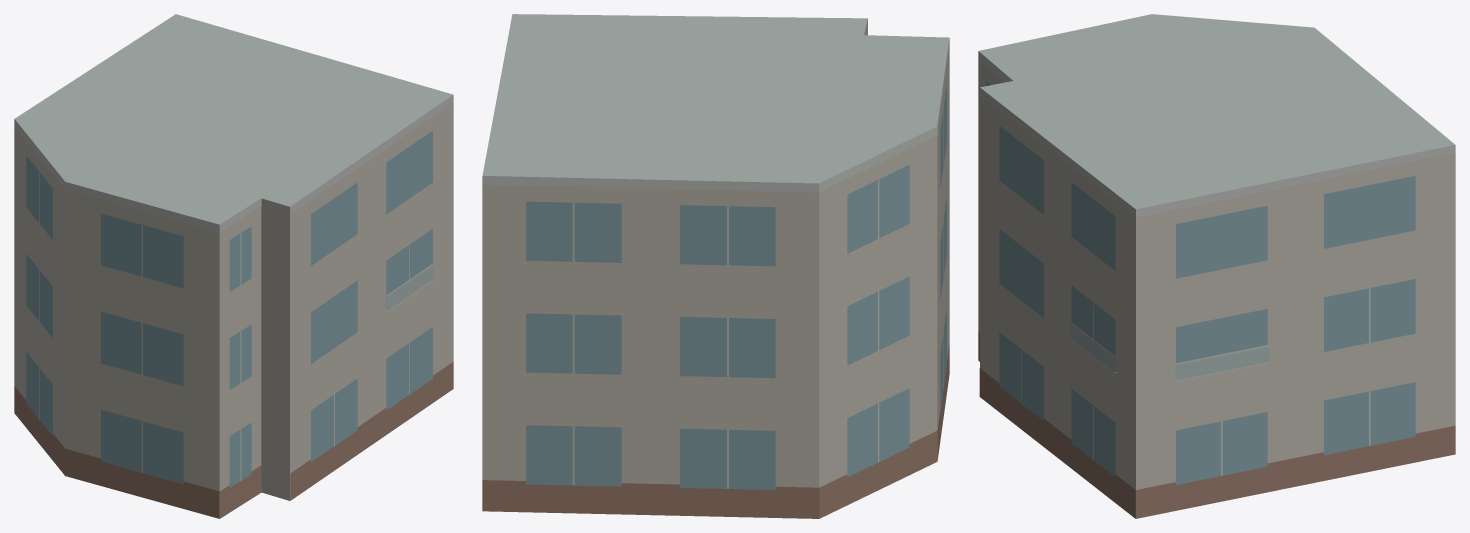
Rendered from survey-upis-32534275.glb.
3 views of the same model, side by side, from view 1: azimuth 30°, elevation 25°; view 2: azimuth 150°, elevation 25°; view 3: azimuth 270°, elevation 25° (orthographic). The views are drawn at different scales.
Parts seen in each view (by area): view 1: survey-upis-32534275.tmp; view 2: survey-upis-32534275.tmp; view 3: survey-upis-32534275.tmp.
Part boxes in pixels (box(x1,y1,x2,y2)): survey-upis-32534275.tmp: box(14, 14, 453, 518); survey-upis-32534275.tmp: box(482, 14, 949, 518); survey-upis-32534275.tmp: box(978, 14, 1455, 518).
Size of the model in its own units: 12.33 by 9.1 by 12.72.
